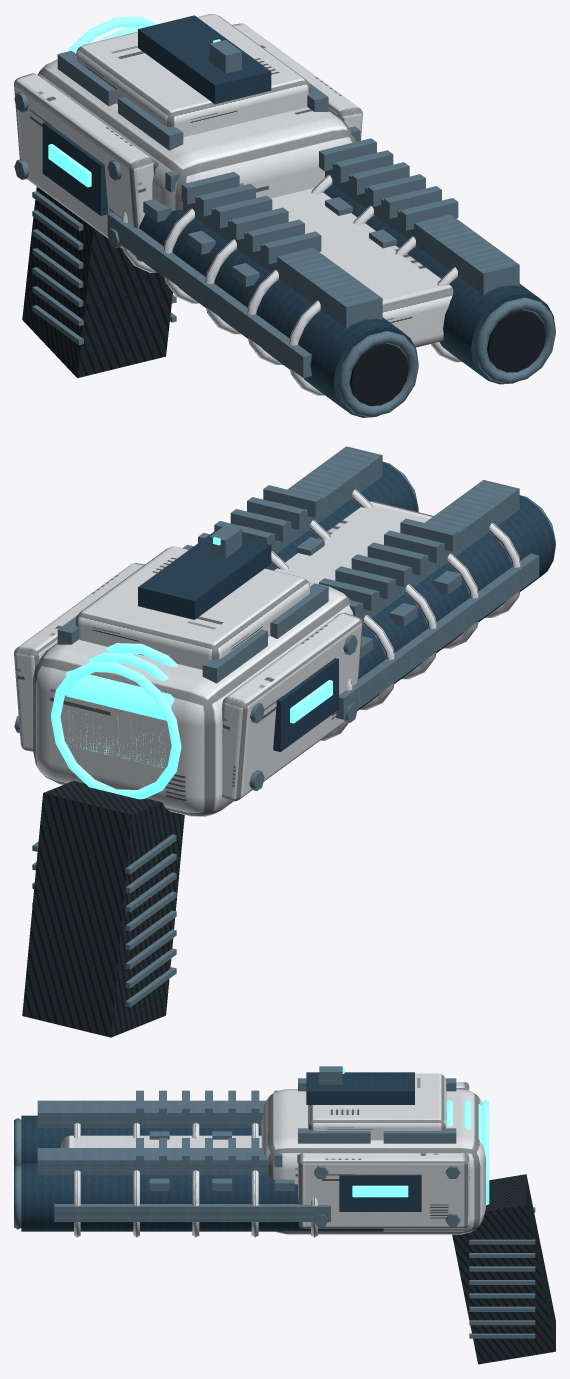
File: double-barrel-shotgun-lod0.glb
The picture shows the model from 3 angles, top to bottom: view 1: azimuth 30°, elevation 25°; view 2: azimuth 150°, elevation 25°; view 3: azimuth 270°, elevation 25°; orthographic projection. The views are drawn at different scales.
Visible parts, largest first — view 1: weapon:grip, weapon:receiver, weapon:receiver:top-armour, weapon:bridge, weapon:side-plate:-1, weapon:barrel-shroud:-1, weapon:sight:base, weapon:barrel-rail:-1, weapon:barrel-rail:1, weapon:barrel-rail:side:-1, weapon:barrel-shroud:1, weapon:muzzle-opening:1 (+34 smaller); view 2: weapon:grip, weapon:receiver, weapon:receiver:top-armour, weapon:side-plate:-1, weapon:barrel-shroud:-1, weapon:sight:base, weapon:barrel-rail:side:-1, weapon:barrel-rail:-1, weapon:bridge, weapon:barrel-rail:1, weapon:energy:coil:0, weapon:side-plate:1 (+22 smaller); view 3: weapon:grip, weapon:barrel-shroud:1, weapon:side-plate:1, weapon:receiver, weapon:barrel-rail:1, weapon:barrel-rail:-1, weapon:barrel-rail:side:1, weapon:receiver:top-armour, weapon:sight:base, weapon:barrel-shroud:-1, weapon:service-port:1, weapon:bridge (+15 smaller).
Part boxes in pixels (box(x1,y1,x2,y2)): weapon:grip: box(22, 186, 172, 377); weapon:receiver: box(37, 59, 355, 210); weapon:receiver:top-armour: box(75, 14, 310, 137); weapon:bridge: box(271, 188, 453, 347); weapon:side-plate:-1: box(14, 73, 153, 261); weapon:barrel-shroud:-1: box(139, 209, 418, 417); weapon:sight:base: box(138, 15, 271, 104); weapon:barrel-rail:-1: box(183, 188, 382, 328); weapon:barrel-rail:1: box(325, 154, 519, 294); weapon:barrel-rail:side:-1: box(107, 212, 311, 377); weapon:barrel-shroud:1: box(323, 184, 555, 384); weapon:muzzle-opening:1: box(487, 309, 545, 372); weapon:grip: box(22, 780, 184, 1037); weapon:receiver: box(32, 581, 353, 816); weapon:receiver:top-armour: box(75, 546, 310, 669); weapon:side-plate:-1: box(222, 613, 362, 801); weapon:barrel-shroud:-1: box(357, 495, 555, 710); weapon:sight:base: box(138, 531, 271, 619); weapon:barrel-rail:side:-1: box(336, 553, 539, 719); weapon:barrel-rail:-1: box(344, 480, 519, 624); weapon:bridge: box(274, 501, 433, 583); weapon:barrel-rail:1: box(239, 446, 382, 553); weapon:energy:coil:0: box(51, 661, 181, 799); weapon:side-plate:1: box(14, 563, 144, 751); weapon:grip: box(452, 1174, 555, 1364); weapon:barrel-shroud:1: box(21, 1163, 383, 1231); weapon:side-plate:1: box(298, 1153, 469, 1228); weapon:receiver: box(261, 1089, 485, 1234); weapon:barrel-rail:1: box(37, 1148, 269, 1175); weapon:barrel-rail:-1: box(37, 1100, 265, 1127); weapon:barrel-rail:side:1: box(54, 1204, 330, 1221); weapon:receiver:top-armour: box(308, 1073, 446, 1140); weapon:sight:base: box(306, 1072, 414, 1104); weapon:barrel-shroud:-1: box(21, 1115, 261, 1162); weapon:service-port:1: box(339, 1174, 421, 1211); weapon:bridge: box(60, 1135, 261, 1147).
Bounding box in the file's own units: 0.4392 × 0.6768 × 1.18.
6 materials, 4 textured.
